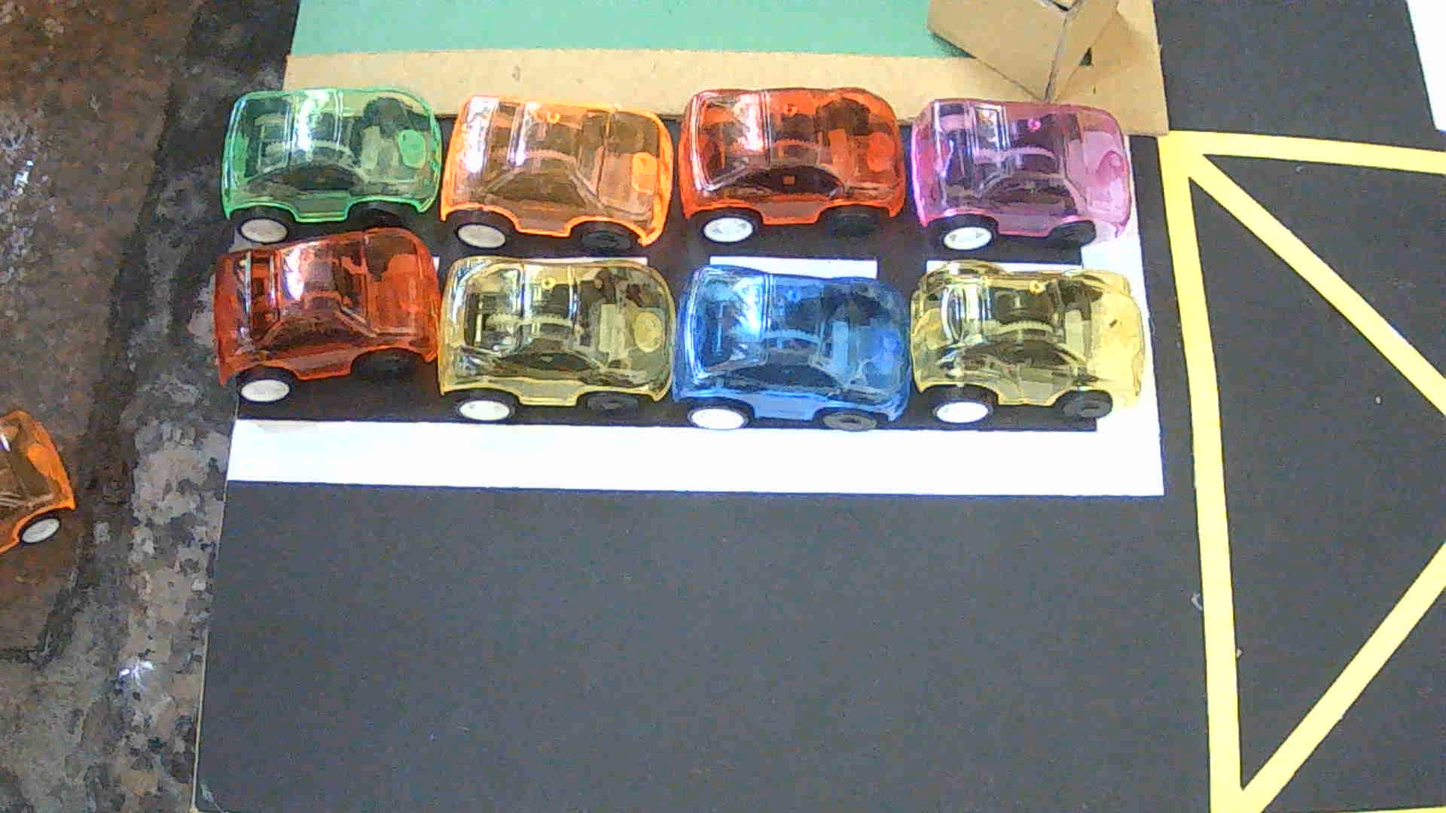Mobil biru: (672, 265, 911, 431)
Mobil hijau: (221, 87, 442, 242)
Mobil kuning: (910, 260, 1145, 427), (438, 256, 674, 421)
Mobil merah: (214, 228, 439, 402), (677, 87, 905, 242)
Mobil orange: (439, 95, 672, 252)
Mobil ungu: (910, 99, 1131, 251)
